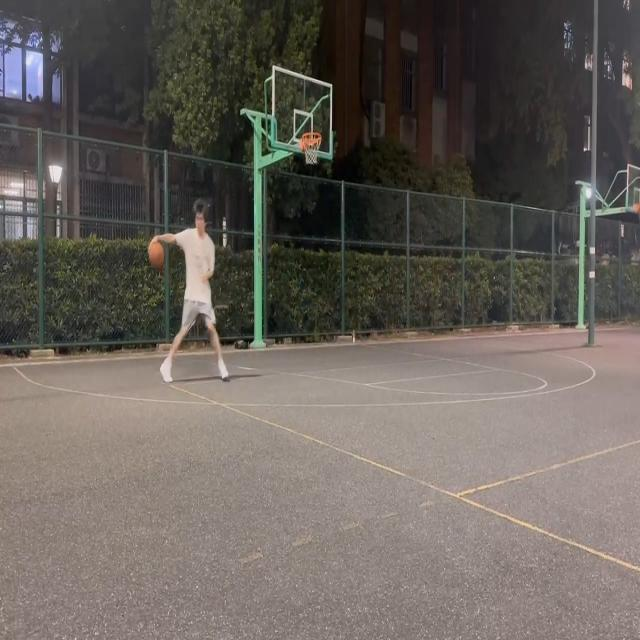basketball: (302, 132, 322, 165)
rim: (148, 241, 164, 266)
